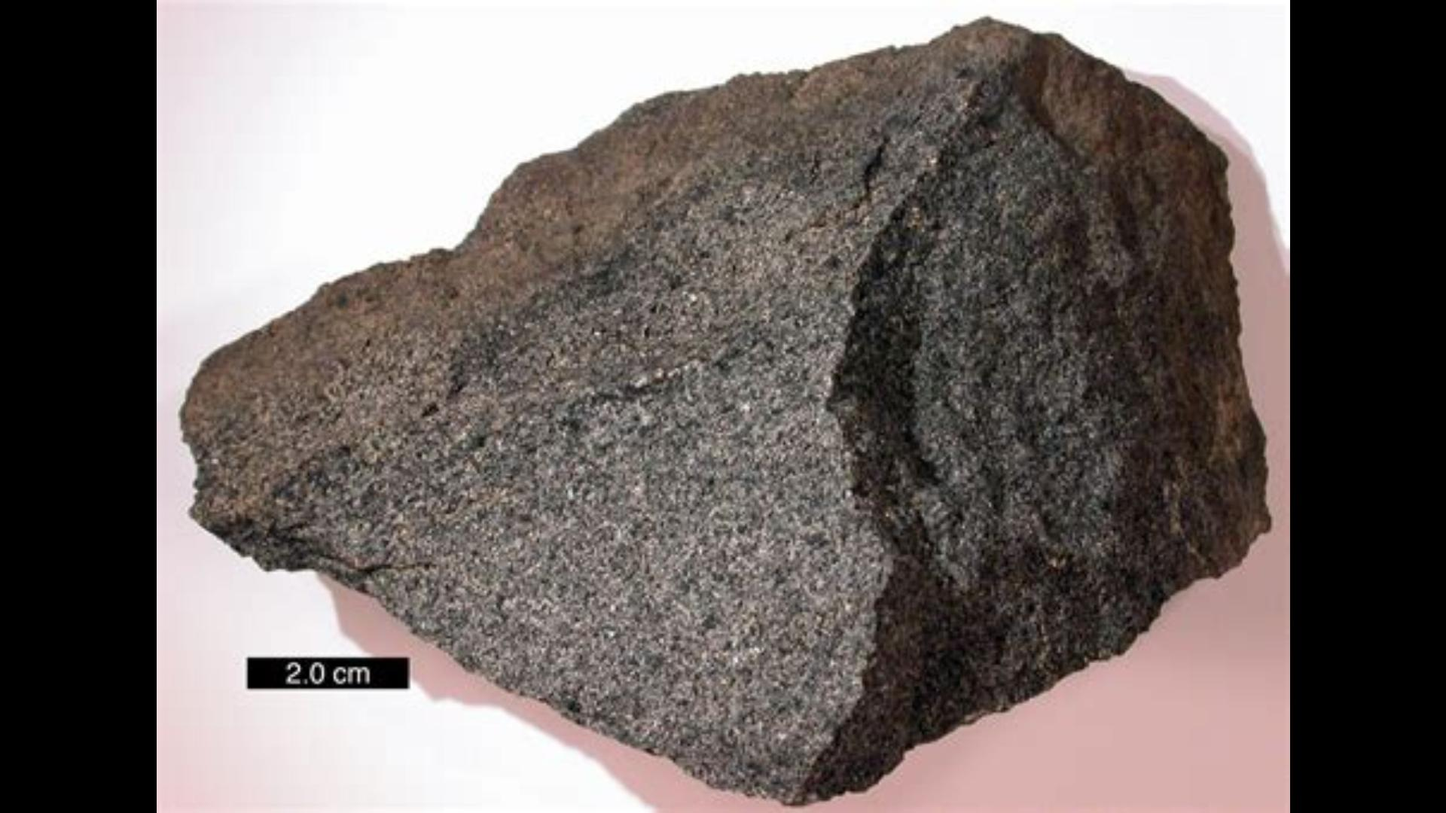rock: (182, 22, 1264, 784)
